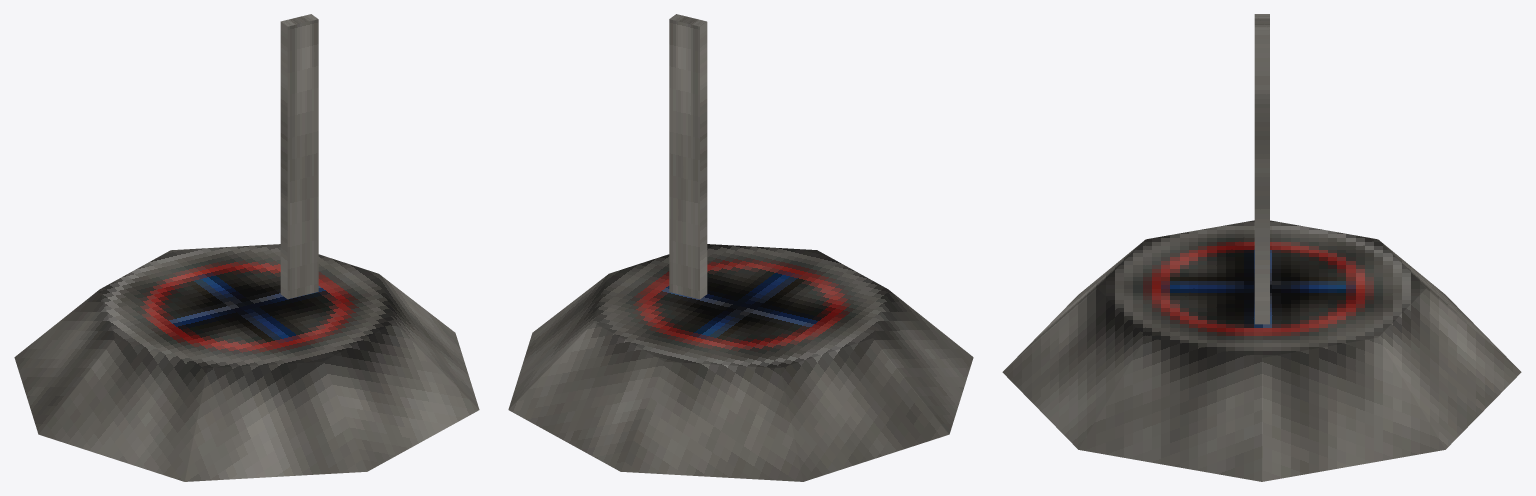
The model's file is RocketPad01.glb.
The picture shows the model from 3 angles, left to right: view 1: azimuth 30°, elevation 25°; view 2: azimuth 150°, elevation 25°; view 3: azimuth 270°, elevation 25°; orthographic projection. The views are drawn at different scales.
Parts seen in each view (by area): view 1: RocketPad01; view 2: RocketPad01; view 3: RocketPad01.
Boxes of the visible parts, left/top/right/bottom form: RocketPad01: left=14, top=14, right=479, bottom=481; RocketPad01: left=508, top=14, right=973, bottom=481; RocketPad01: left=1002, top=14, right=1521, bottom=481.
Bounding box in the file's own units: 225 × 180 × 225.
Materials: 1 (1 with a texture image).
